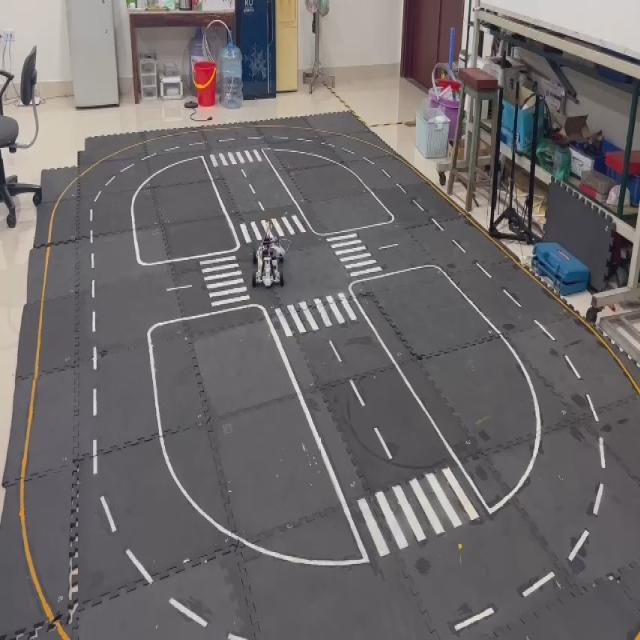SiCo-CAR: (251, 227, 286, 288)
